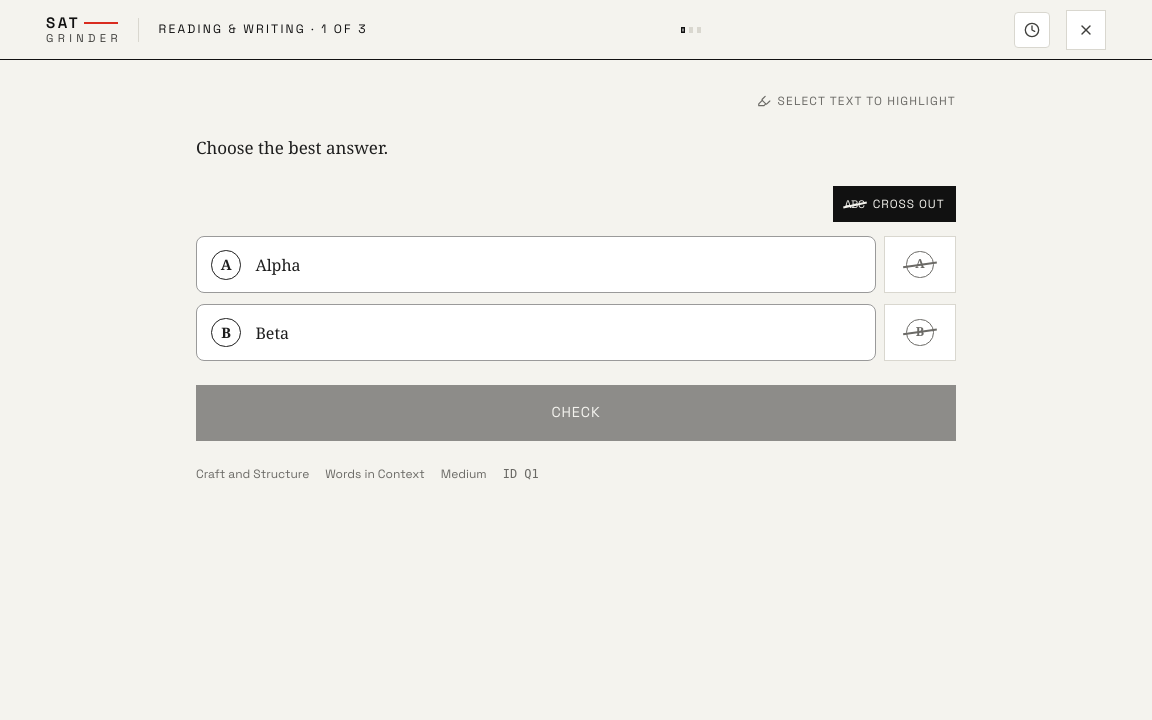
Scenario: SetCard › marks a first-try solve as mastered and offers Next
Click the radio button labelled "A Alpha" at (278, 265), box [196,236,876,293]
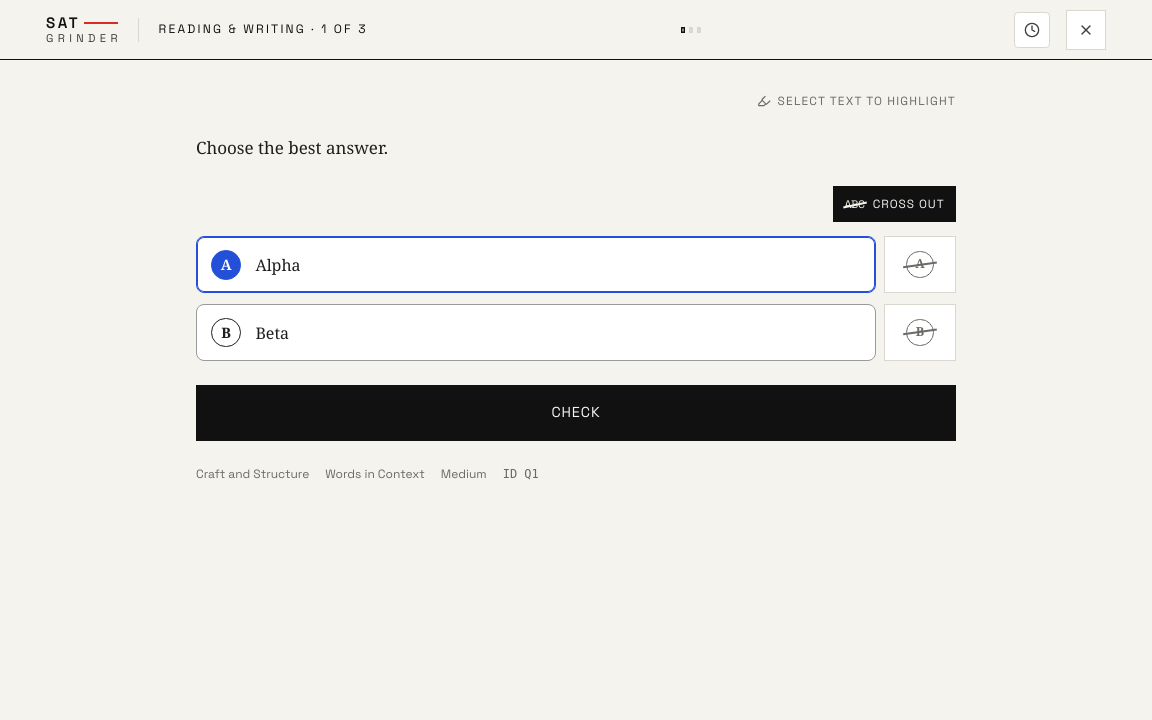
Click the button "Check" at (576, 413), box [196,385,956,441]
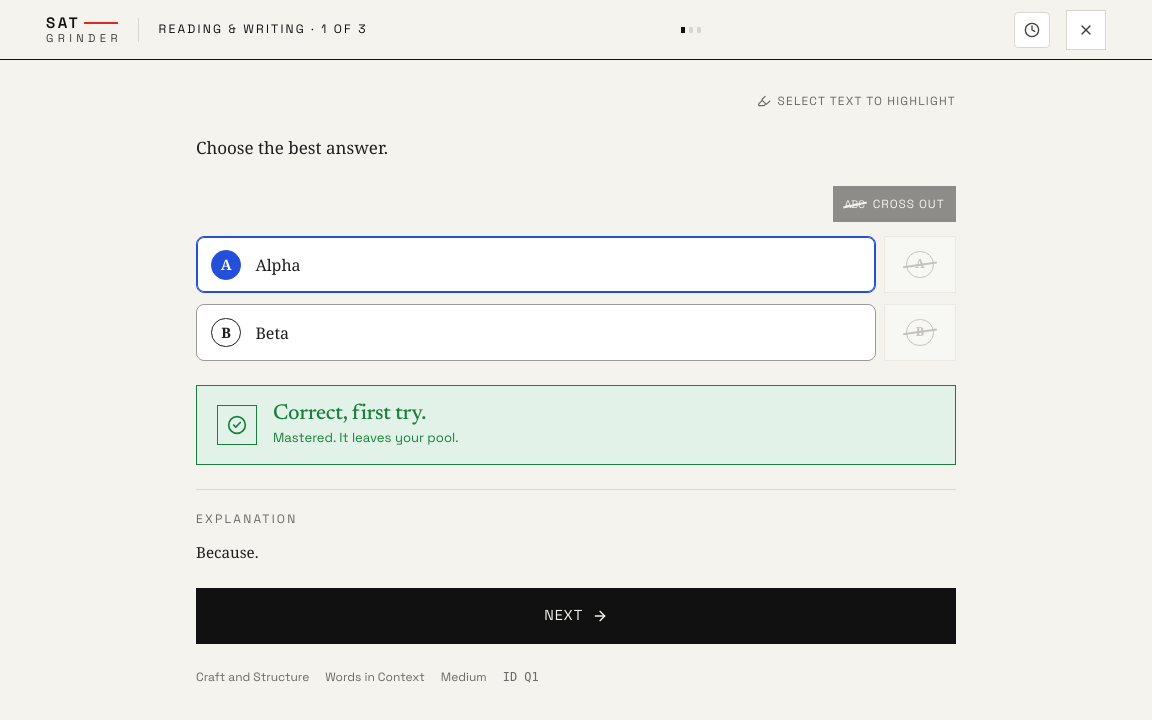
Check: the heading "Correct, first try." is shown, box [273,403,426,425]
Check: the text "Mastered. It leaves your pool." is shown, box [273,429,458,446]
Check: the text "Because." is shown, box [196,542,258,562]
